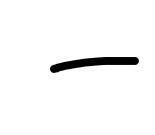minus: (50, 57, 139, 73)
